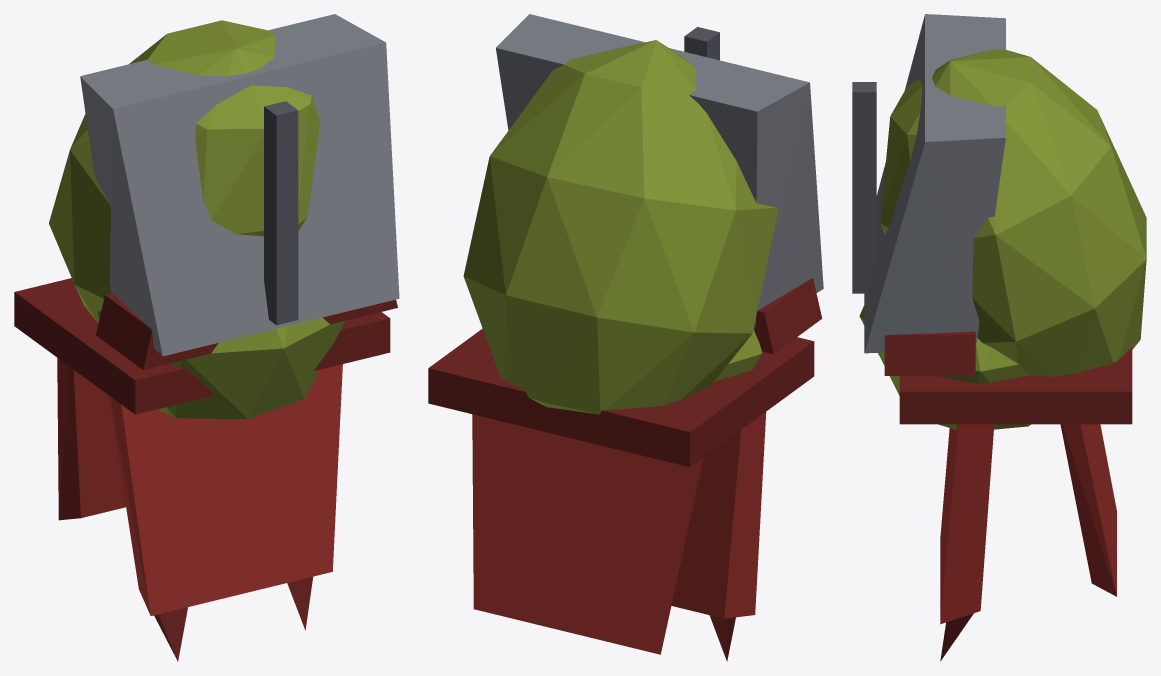
Rendered from goblin_1_body.glb.
3 renders of one model, left to right at view 1: azimuth 30°, elevation 25°; view 2: azimuth 150°, elevation 25°; view 3: azimuth 270°, elevation 25°, orthographic. The views are drawn at different scales.
Parts seen in each view (by area): view 1: goblin_1_body; view 2: goblin_1_body; view 3: goblin_1_body.
Part boxes in pixels (x1,y1,x2,y2): goblin_1_body: [14, 14, 399, 661]; goblin_1_body: [428, 14, 823, 661]; goblin_1_body: [852, 14, 1146, 661].
Size of the model in its own units: 0.3 by 0.6235 by 0.2913.
